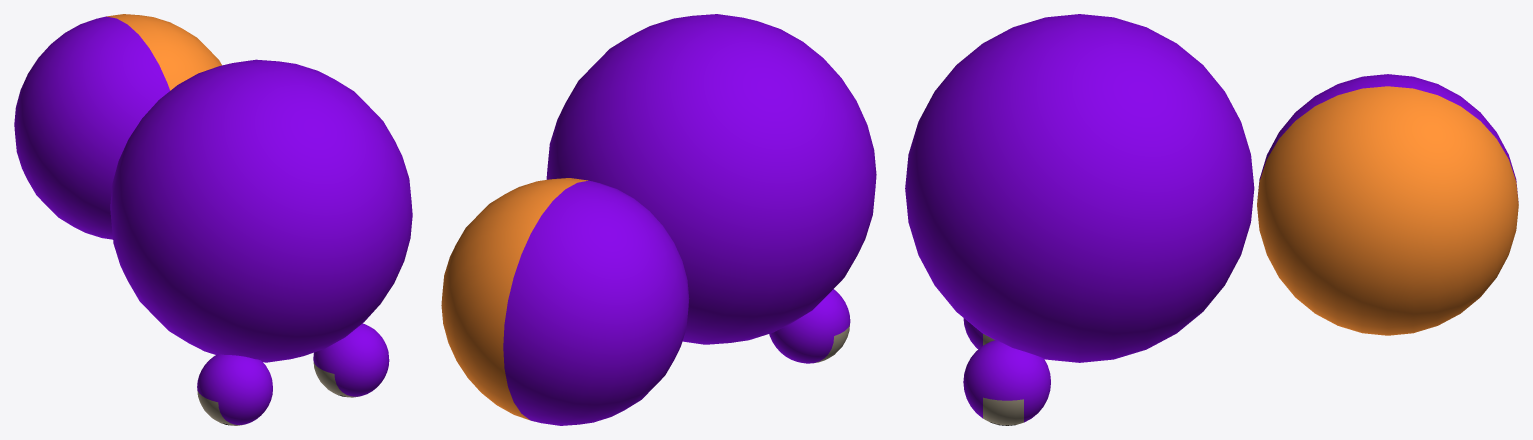
Rendered from projectsnake2.fbx.
The picture shows the model from 3 angles, left to right: view 1: azimuth 30°, elevation 25°; view 2: azimuth 150°, elevation 25°; view 3: azimuth 270°, elevation 25°; orthographic projection. The views are drawn at different scales.
Visible parts, largest first — view 1: Sphere, Sphere.002; view 2: Sphere, Sphere.002; view 3: Sphere, Sphere.002.
Boxes of the visible parts, x1=… form: Sphere: x1=110, y1=59, x2=412, y2=425; Sphere.002: x1=14, y1=14, x2=221, y2=239; Sphere: x1=546, y1=14, x2=876, y2=363; Sphere.002: x1=441, y1=178, x2=689, y2=425; Sphere: x1=905, y1=14, x2=1254, y2=425; Sphere.002: x1=1257, y1=74, x2=1518, y2=335.
Size of the model in its own units: 40 by 45.35 by 70.29.
